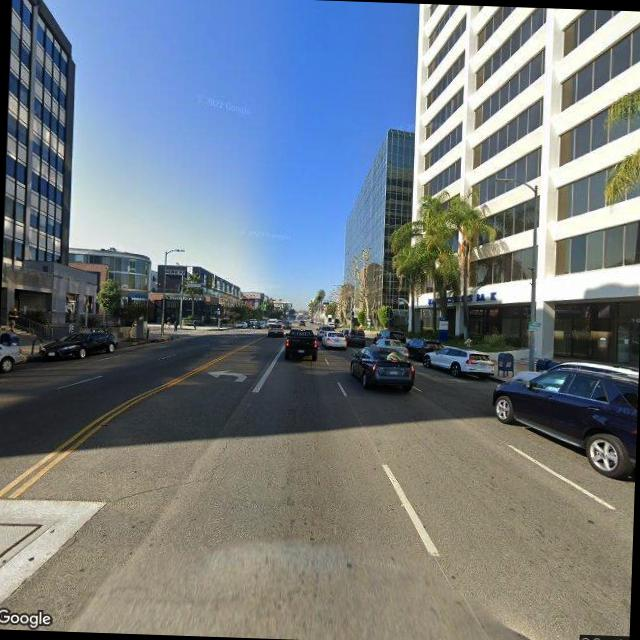crack: (203, 415, 244, 488)
